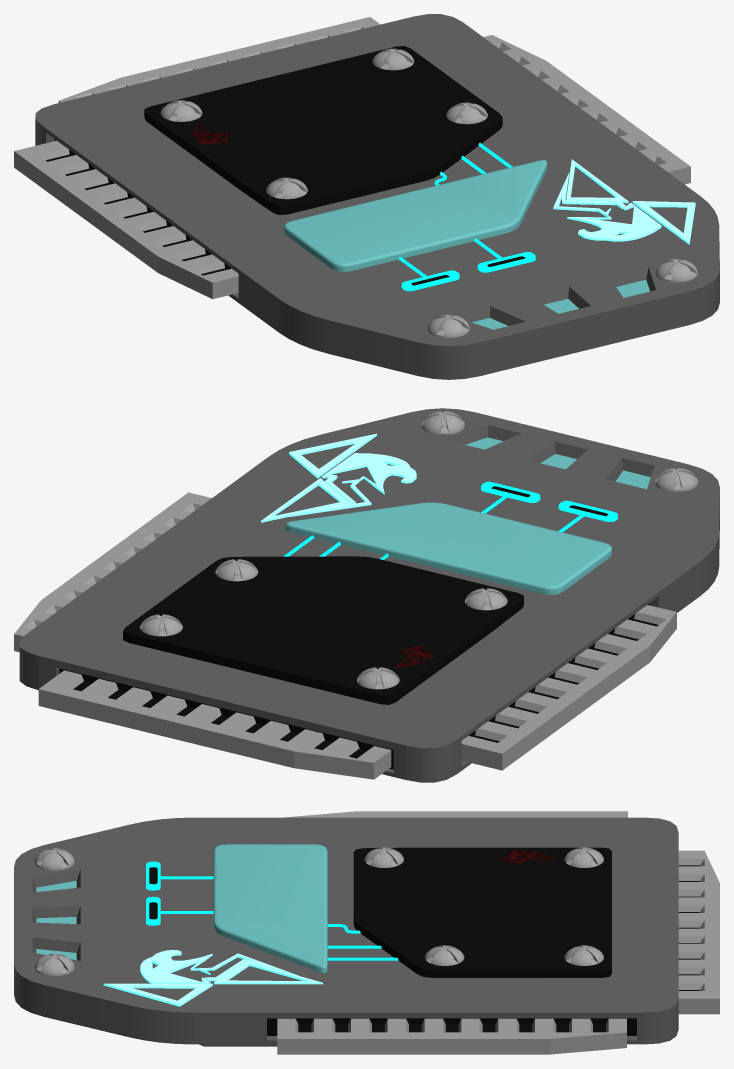
File: carte_de_données.fbx
3 views of the same model, one above another, from view 1: azimuth 30°, elevation 25°; view 2: azimuth 150°, elevation 25°; view 3: azimuth 270°, elevation 25° (orthographic). The views are drawn at different scales.
Parts seen in each view (by area): view 1: Box075; view 2: Box075; view 3: Box075.
Part boxes in pixels (x1,y1,x2,y2): Box075: (14, 14, 719, 379); Box075: (14, 408, 719, 782); Box075: (14, 811, 719, 1054).
Bounding box in the file's own units: 4.98 × 0.6369 × 6.53.
